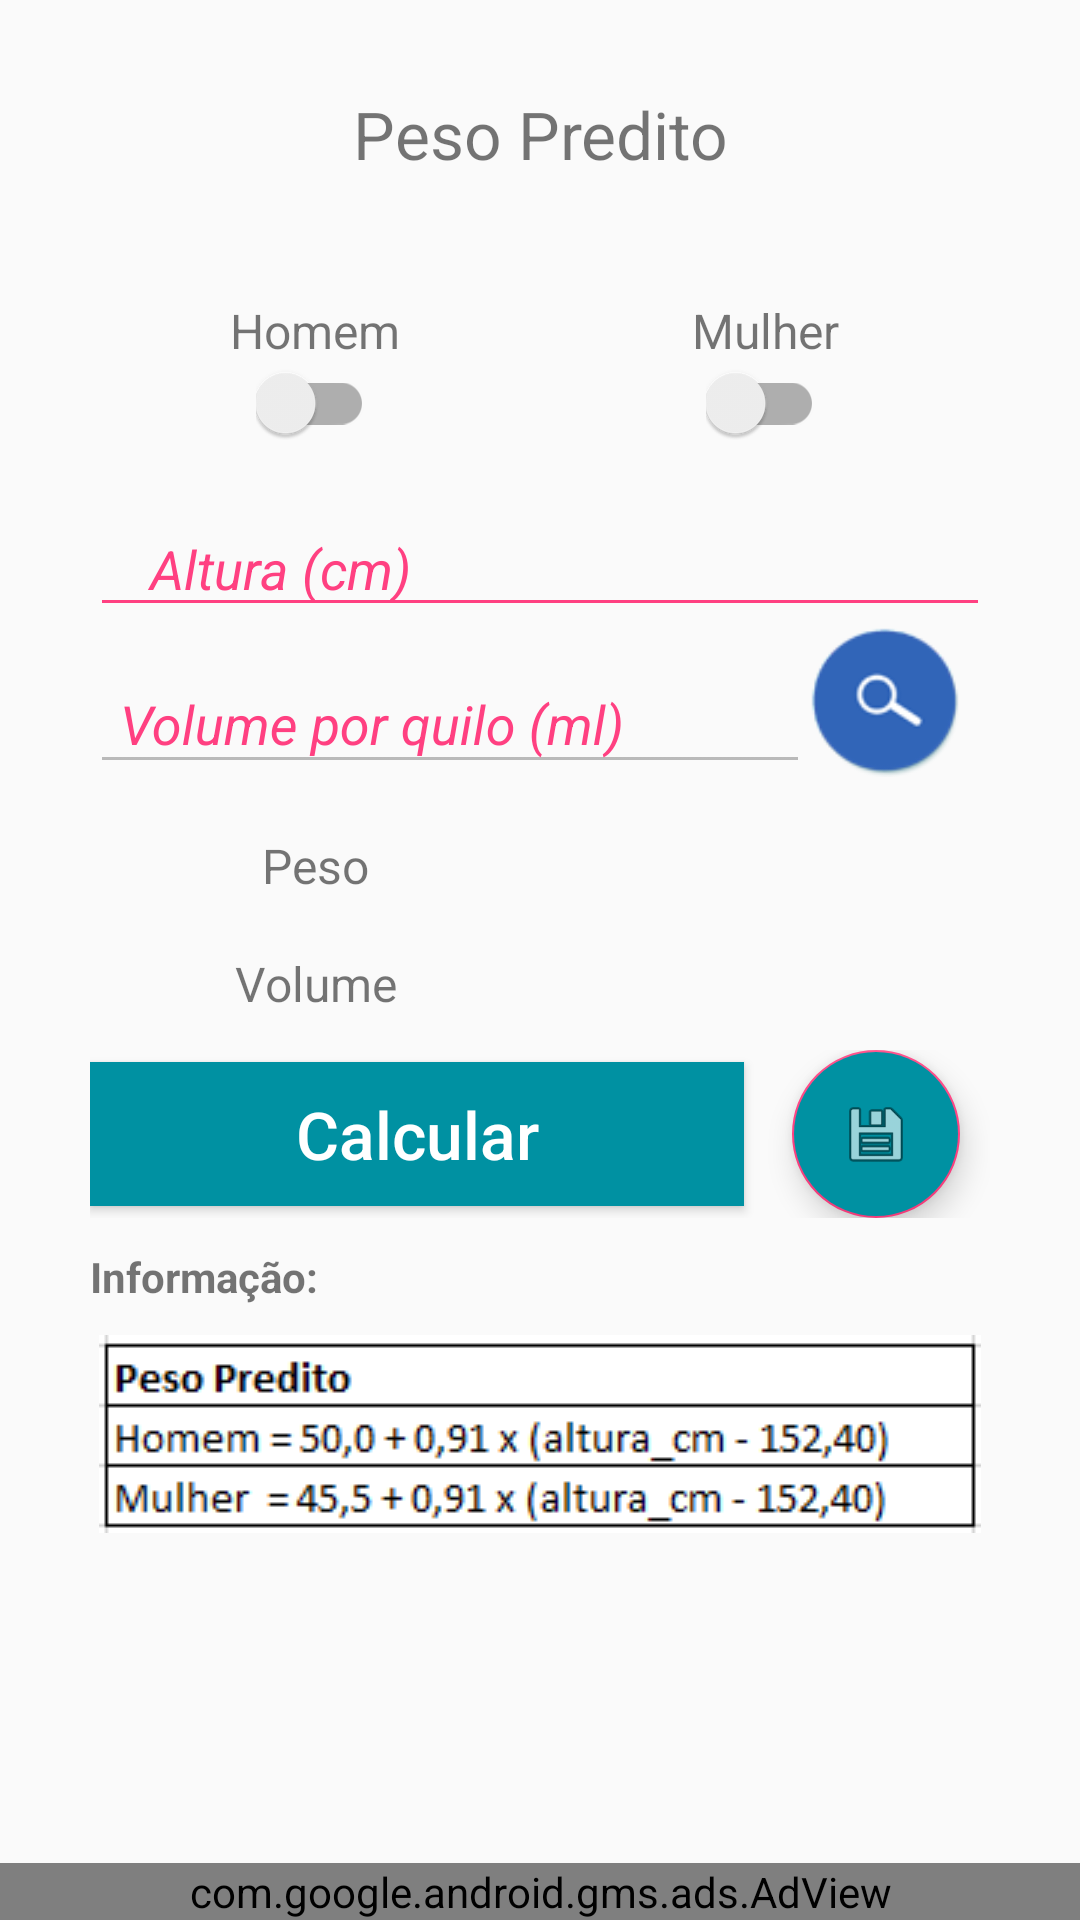

Point at icon controls on the screen. Image size 1080 x 1920, points as point (x, y).
save: point (876, 1134)
search: point (885, 701)
